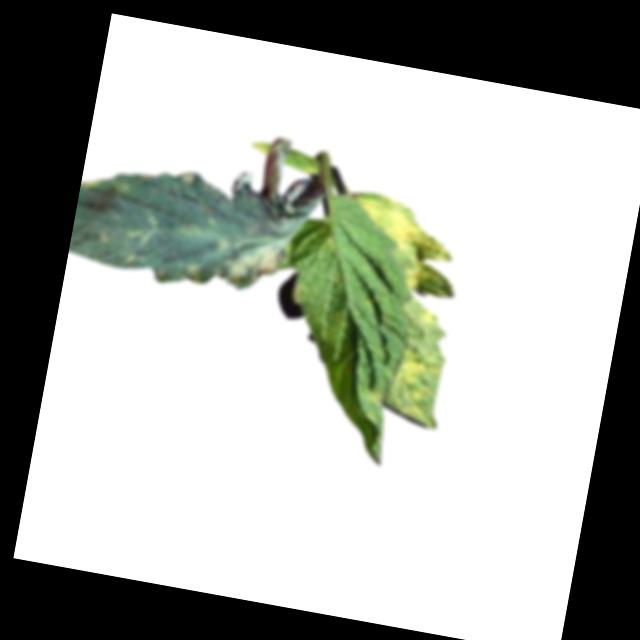Leaf_Mold: (340, 191, 468, 301), (382, 293, 457, 430), (215, 229, 291, 298), (177, 258, 205, 287)
